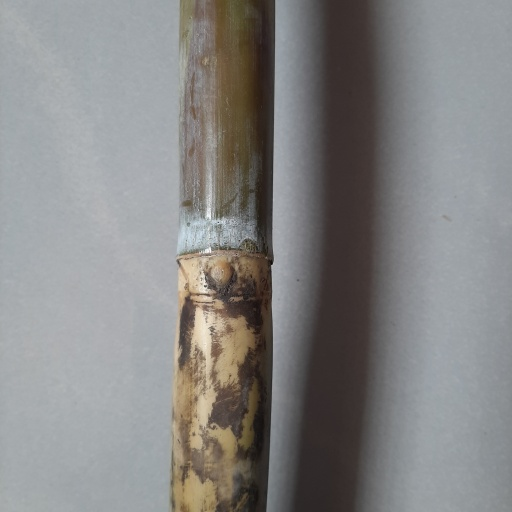Bud: (206, 261, 236, 296)
